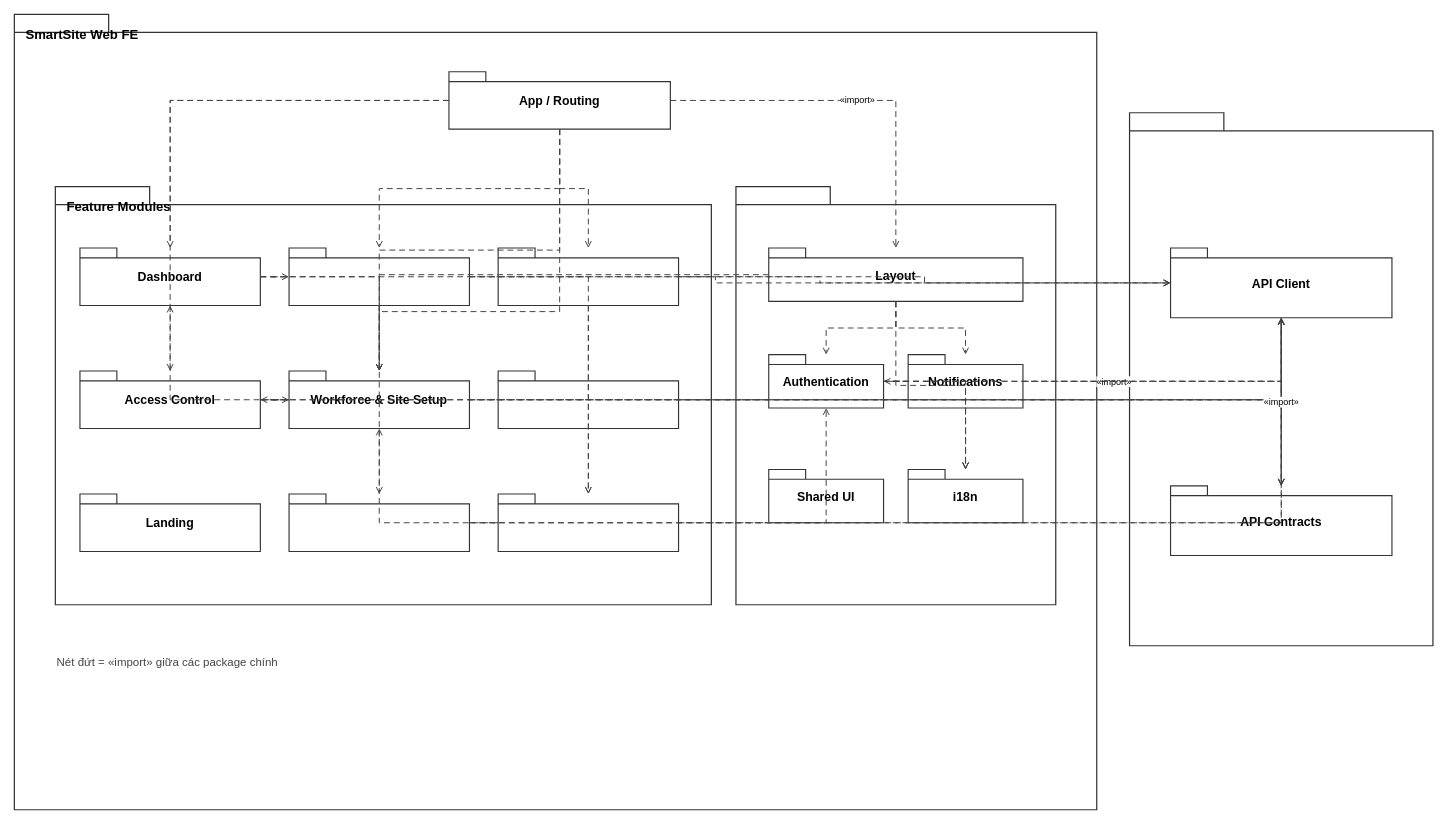
This 1448x825 diagram has some shape labels left out. The box of each missing label's shape, as (x1, y1, x2, y2) in pixels:
Accounts: (288, 493, 470, 552)
Alerts: (497, 247, 679, 306)
Camera / PPE / Zones: (497, 370, 679, 429)
Contractor Management: (288, 247, 470, 306)
Safety & Incidents: (497, 493, 679, 552)
Web Shell & Shared: (735, 186, 1056, 605)
Workspace Packages: (1129, 112, 1433, 646)
